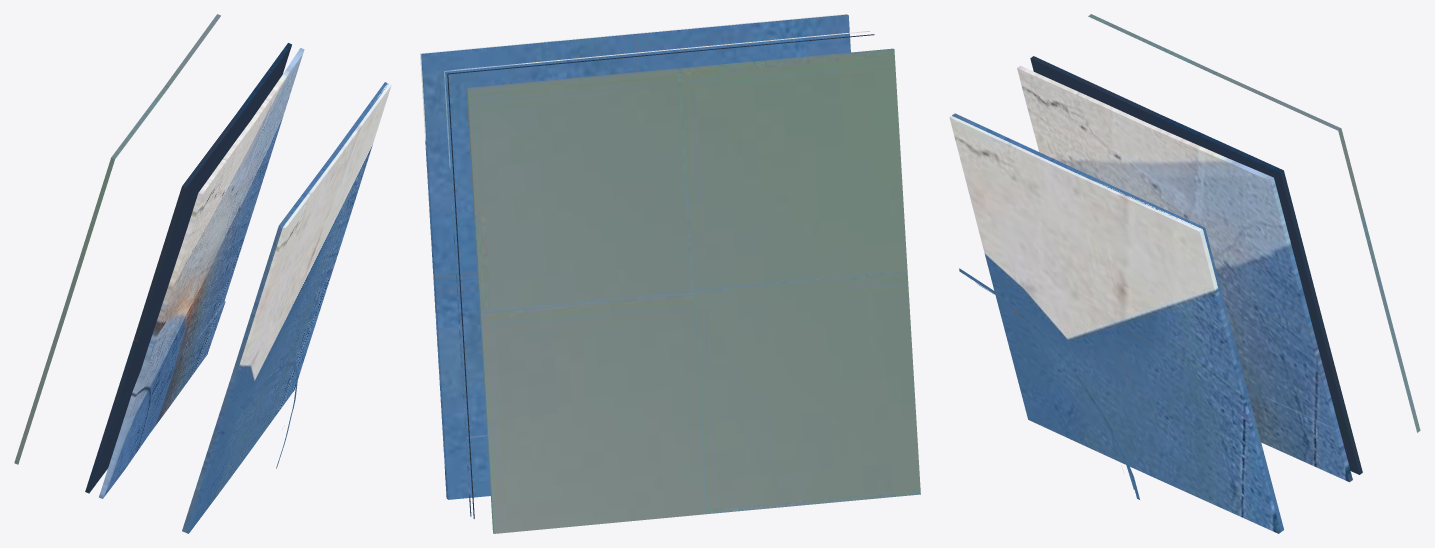
File: congresso_tile_147.glb
3 views of the same model, side by side, from view 1: azimuth 30°, elevation 25°; view 2: azimuth 150°, elevation 25°; view 3: azimuth 270°, elevation 25° (orthographic). The views are drawn at different scales.
Size of the model in its own units: 46.96 by 43 by 46.88.
2 materials, 2 textured.
